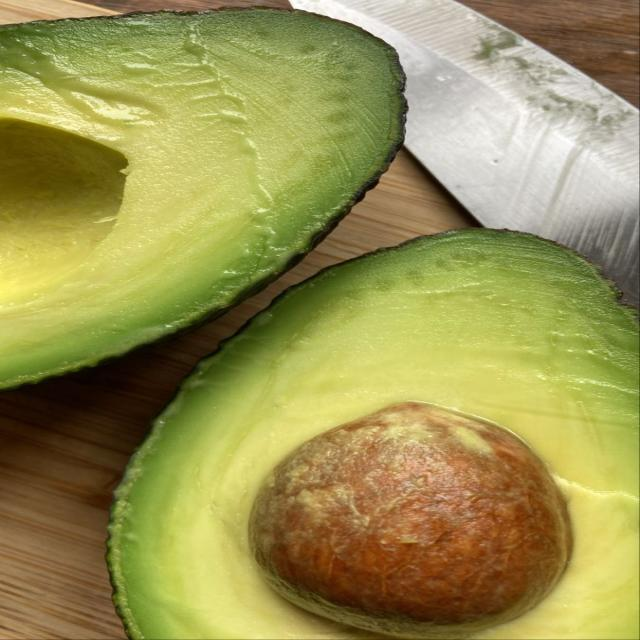avocado: (109, 230, 638, 639), (0, 8, 405, 388)
